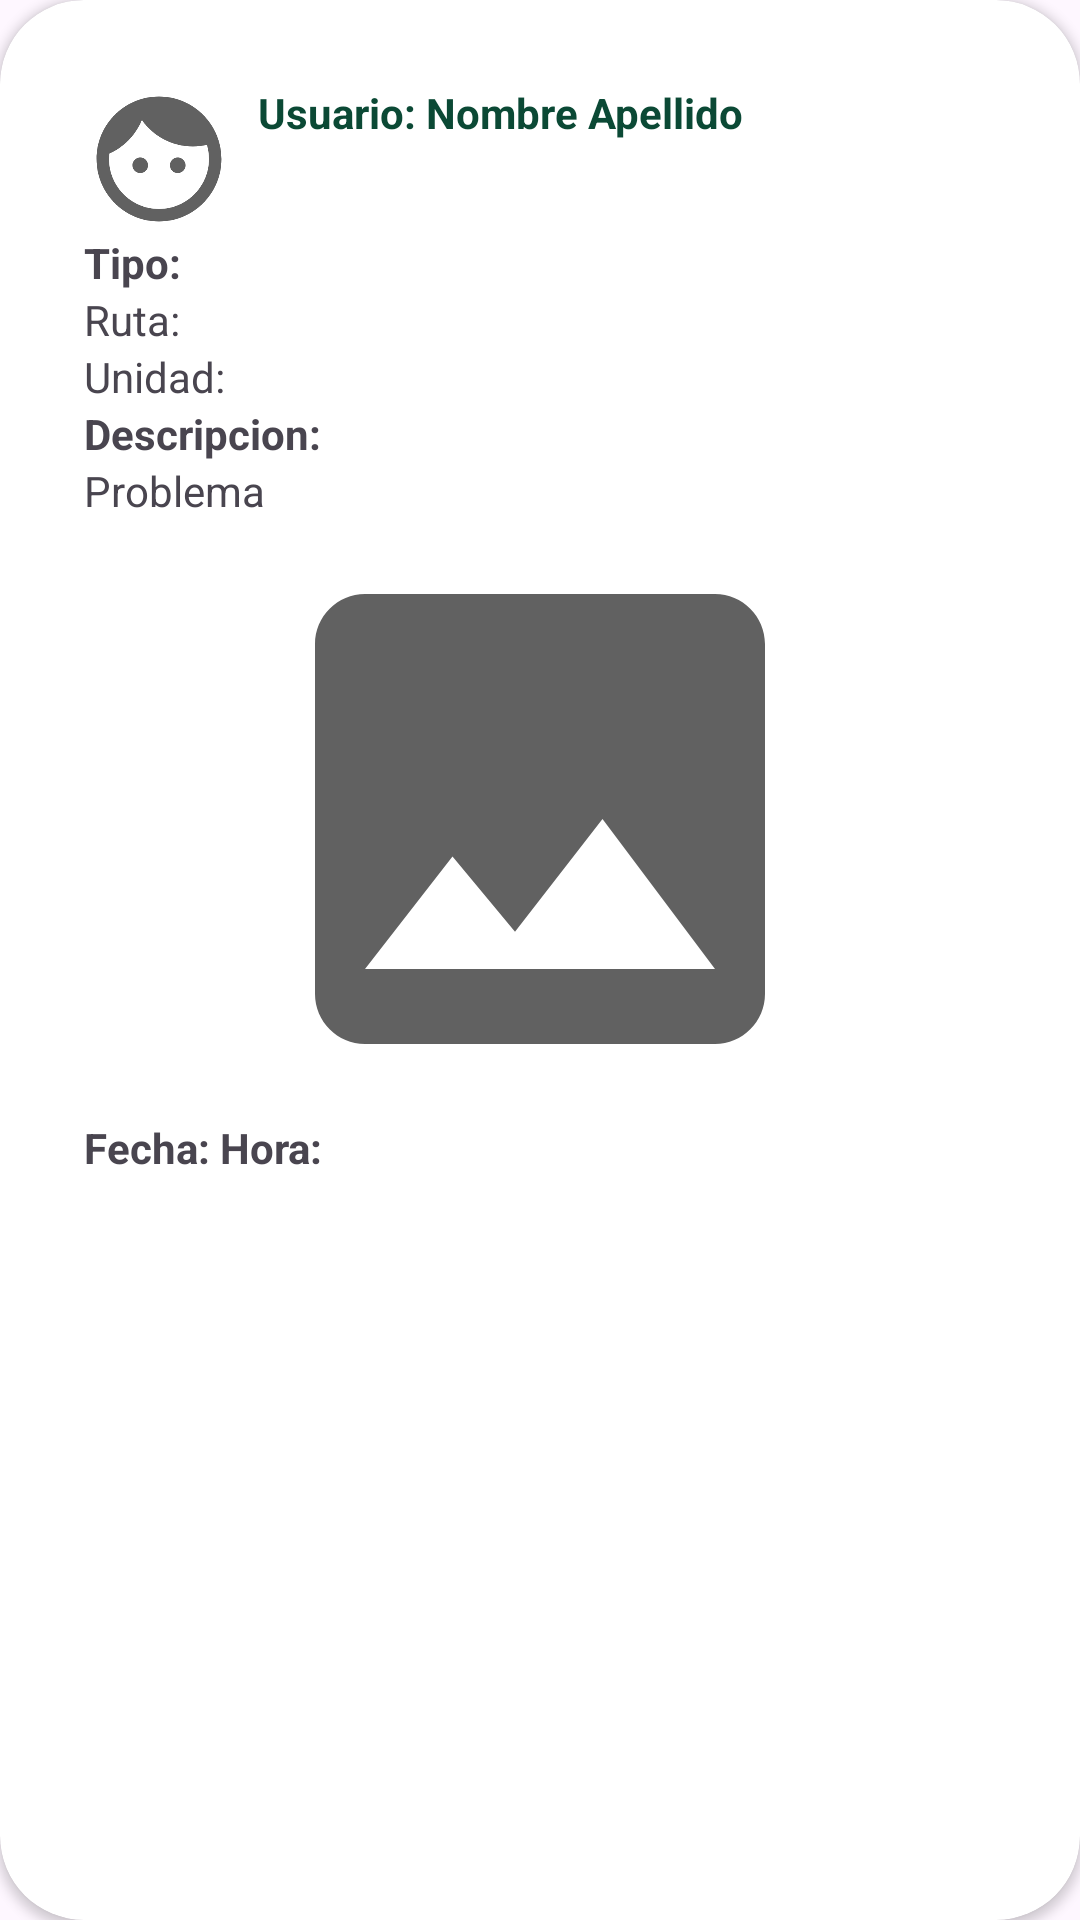

Icon bounding boxes for this 1080px x 1920px phone screenshot, format region(x1, y1, x2, y2):
userimage: region(96, 96, 222, 222)
